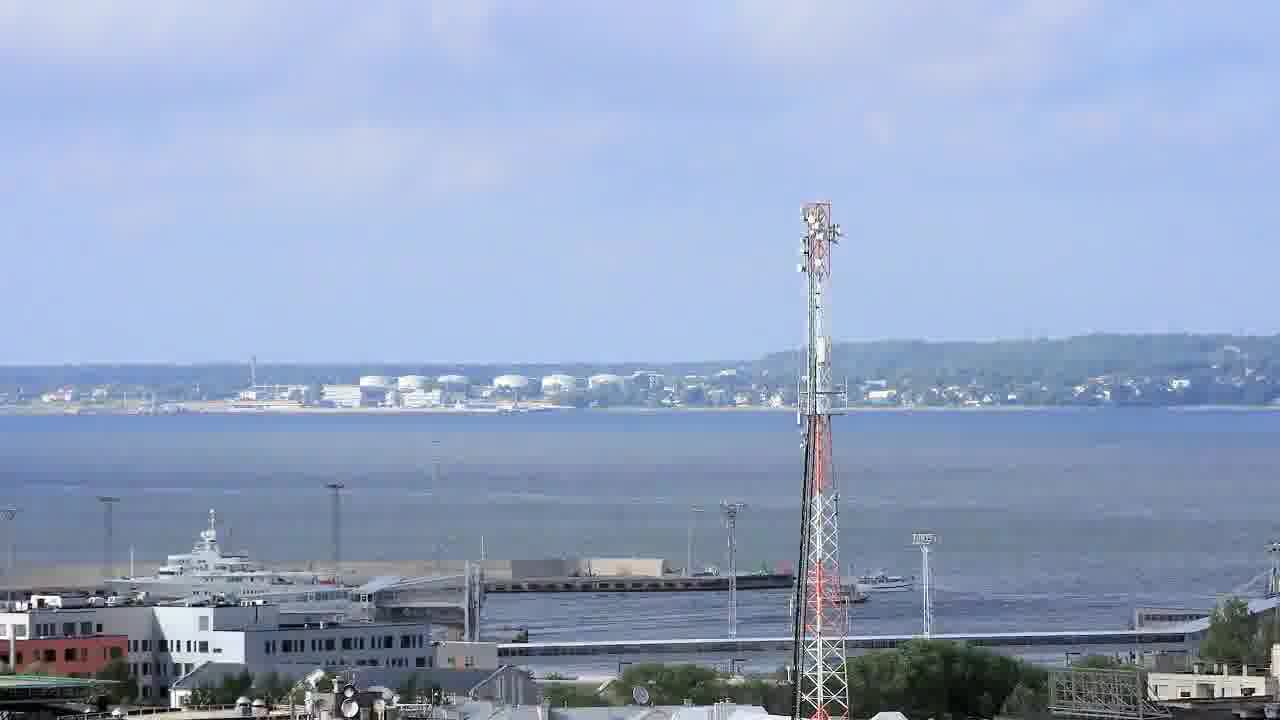type-0: (798, 581, 874, 618)
type-1: (842, 560, 924, 600)
